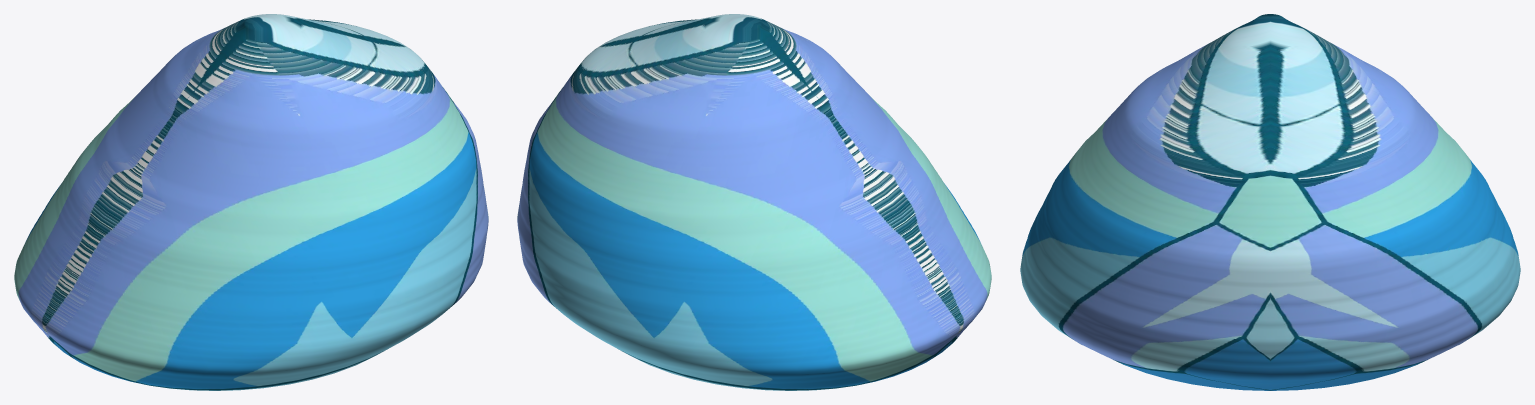
File: faceted_ice_boulder.glb
3 views of the same model, side by side, from view 1: azimuth 30°, elevation 25°; view 2: azimuth 150°, elevation 25°; view 3: azimuth 270°, elevation 25° (orthographic). The views are drawn at different scales.
Visible parts, largest first — view 1: faceted_ice_boulder; view 2: faceted_ice_boulder; view 3: faceted_ice_boulder.
Boxes of the visible parts, <box> form: faceted_ice_boulder: <box>14,14,488,390</box>; faceted_ice_boulder: <box>517,14,991,390</box>; faceted_ice_boulder: <box>1020,14,1520,390</box>.
Size of the model in its own units: 0.9942 by 0.6932 by 0.952.
1 material, 1 textured.
